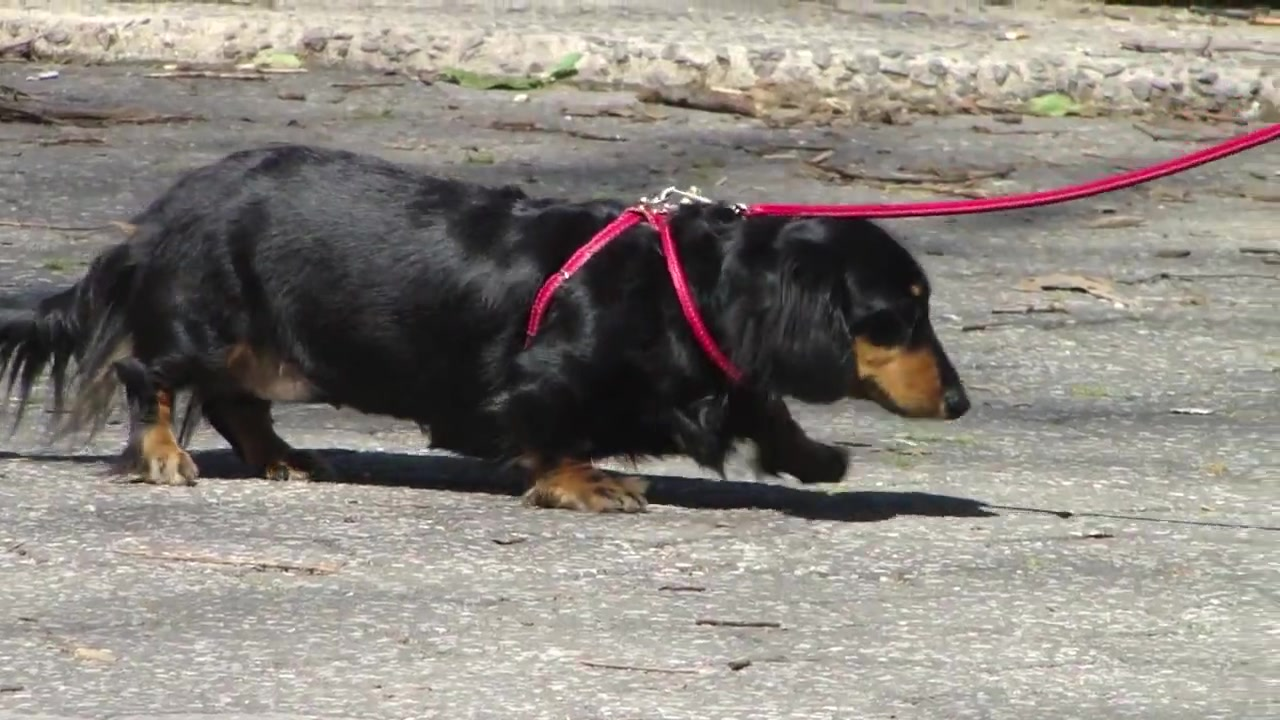dog: (1, 143, 975, 520)
